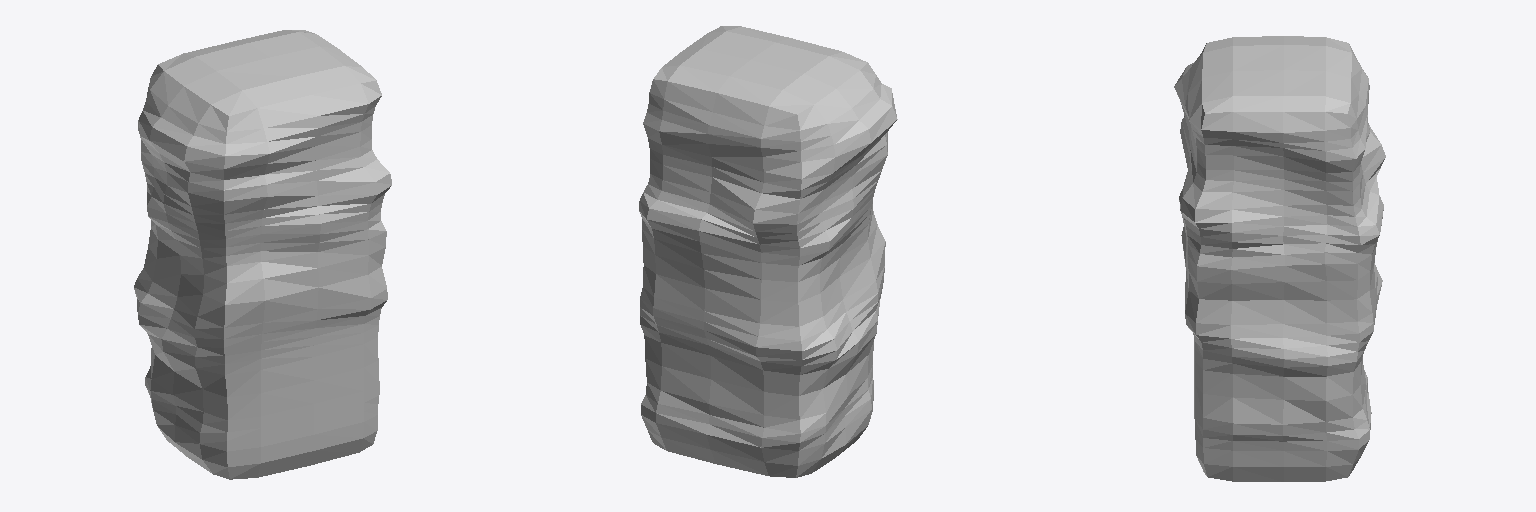
The model's file is PM3D_rock020_003.OBJ.
3 views of the same model, side by side, from view 1: azimuth 30°, elevation 25°; view 2: azimuth 150°, elevation 25°; view 3: azimuth 270°, elevation 25° (orthographic).
Parts seen in each view (by area): view 1: Group40194; view 2: Group40194; view 3: Group40194.
Part boxes in pixels (bbox=[...]): Group40194: bbox=[134, 30, 391, 479]; Group40194: bbox=[639, 26, 897, 477]; Group40194: bbox=[1174, 36, 1385, 481].
Bounding box in the file's own units: 4108 × 7228 × 3591.